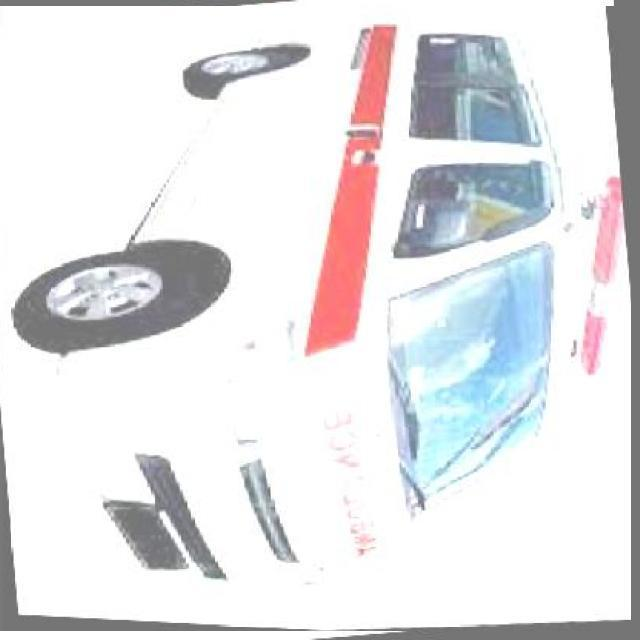emergency-vehicle: (0, 3, 627, 634)
